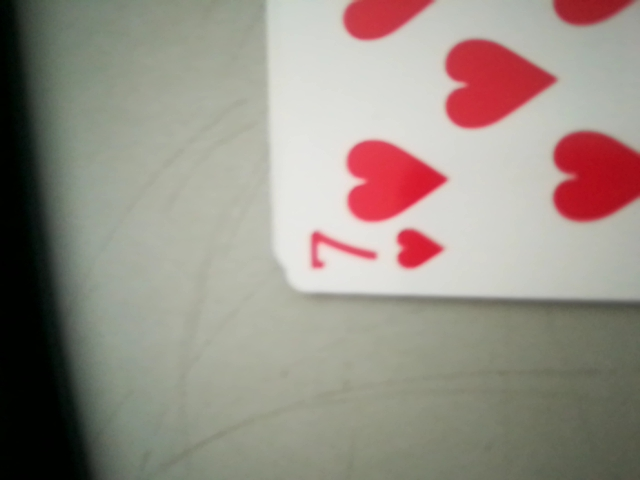hx 7: (296, 223, 451, 287)
